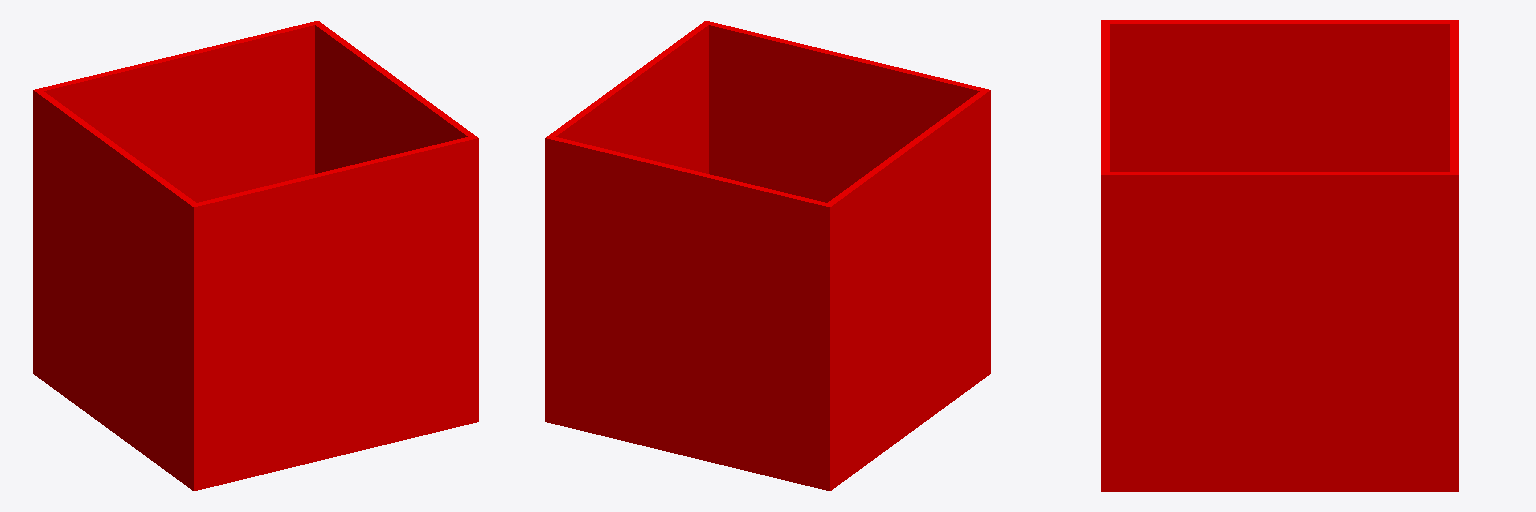
The robot description file, URDF, robot "box":
<robot name="box">
  <link name="base_link">
    <inertial>
      <origin xyz="0.0 0.0 0.0" rpy="0 0 0" />
      <mass value="0.6"/>
      <inertia ixx="0.001" ixy="0.0" ixz="0.0"
	       iyy="0.001" iyz="0.0"
	       izz="0.001" />
    </inertial>
    <visual>
      <origin xyz="-0.041 0 0" rpy="0 0 0" />
      <geometry>
        <box size="0.002 0.082 0.08"/>
      </geometry>
      <material name="red">
        <color rgba="1 0 0 1"/>
      </material>
    </visual>
    <visual>
      <origin xyz="0.041 0 0" rpy="0 0 0" />
      <geometry>
        <box size="0.002 0.082 0.08"/>
      </geometry>
      <material name="red">
        <color rgba="1 0 0 1"/>
      </material>
    </visual>
    <visual>
      <origin xyz="0 -0.04 0" rpy="0 0 0" />
      <geometry>
        <box size="0.08 0.002 0.08"/>
      </geometry>
      <material name="red">
        <color rgba="1 0 0 1"/>
      </material>
    </visual>
    <visual>
      <origin xyz="0 0.04 0" rpy="0 0 0" />
      <geometry>
        <box size="0.08 0.002 0.08"/>
      </geometry>
      <material name="red">
        <color rgba="1 0 0 1"/>
      </material>
    </visual>
    <collision>
      <origin xyz="-0.041 0 0" rpy="0 0 0" />
      <geometry>
        <box size="0.002 0.082 0.08"/>
      </geometry>
    </collision>
    <collision>
      <origin xyz="0.041 0 0" rpy="0 0 0" />
      <geometry>
        <box size="0.002 0.082 0.08"/>
      </geometry>
    </collision>
    <collision>
      <origin xyz="0 -0.04 0" rpy="0 0 0" />
      <geometry>
        <box size="0.08 0.002 0.08"/>
      </geometry>
    </collision>
    <collision>
      <origin xyz="0 0.04 0" rpy="0 0 0" />
      <geometry>
        <box size="0.08 0.002 0.08"/>
      </geometry>
    </collision>
  </link>
</robot>

--- Render facts (derived) ---
The picture shows the robot from 3 angles, left to right: view 1: azimuth 30°, elevation 25°; view 2: azimuth 150°, elevation 25°; view 3: azimuth 270°, elevation 25°; orthographic projection.
Robot: box — 1 links, 0 joints (none); root link base_link; default pose: every joint at zero.
Visible links, largest first — view 1: base_link; view 2: base_link; view 3: base_link.
Boxes of the visible links, <box> form: base_link: <box>33,21,478,490</box>; base_link: <box>545,21,990,490</box>; base_link: <box>1101,20,1458,491</box>.
Size in the robot's own frame: 0.084 by 0.082 by 0.08 metres.
Geometry: primitives only (box / cylinder / sphere), no mesh files.